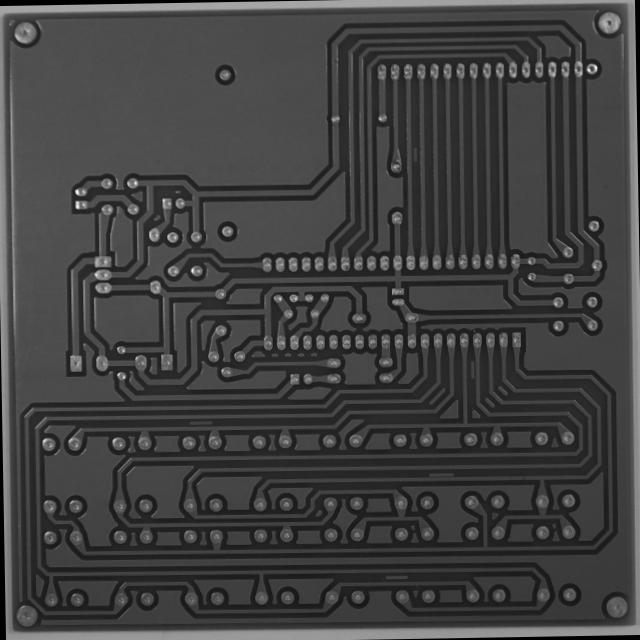spurious_copper: (381, 570, 411, 584), (424, 468, 456, 480), (186, 416, 215, 428), (409, 144, 422, 164), (466, 356, 476, 382)
